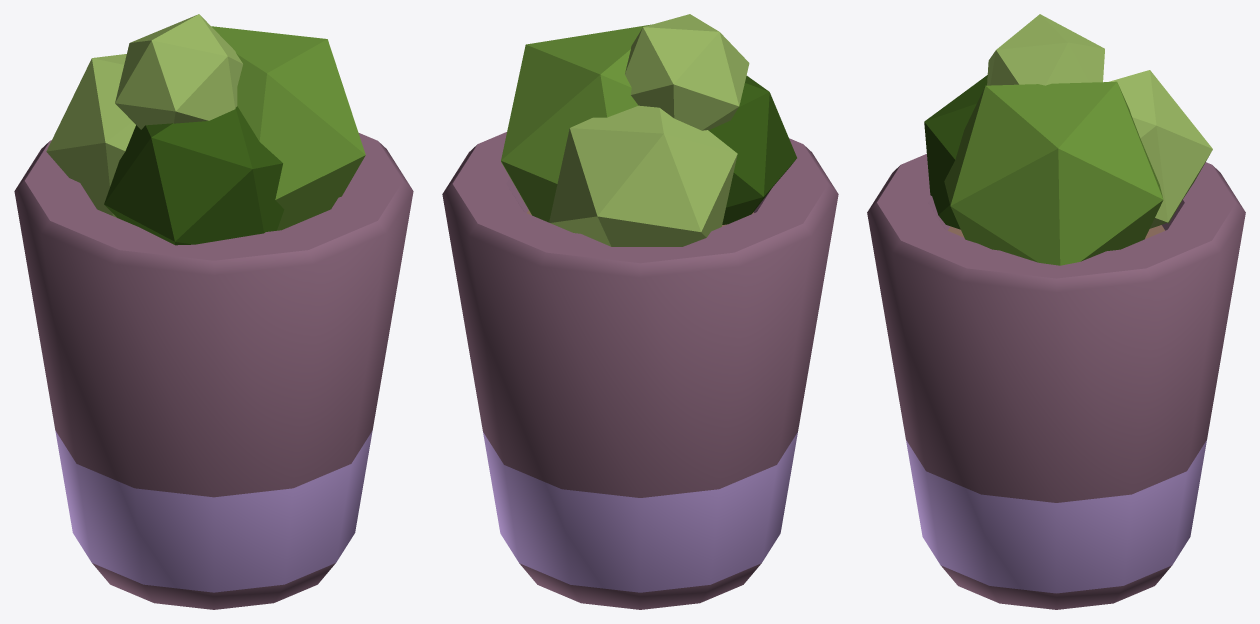
File: Plant_Deco.fbx
The picture shows the model from 3 angles, left to right: view 1: azimuth 30°, elevation 25°; view 2: azimuth 150°, elevation 25°; view 3: azimuth 270°, elevation 25°; orthographic projection. The views are drawn at different scales.
Visible parts, largest first — view 1: Plant_Deco; view 2: Plant_Deco; view 3: Plant_Deco.
Boxes of the visible parts, <box> form: Plant_Deco: <box>14,14,413,609</box>; Plant_Deco: <box>442,14,838,609</box>; Plant_Deco: <box>867,14,1245,609</box>.
Bounding box in the file's own units: 18.8 × 28.75 × 18.8.
